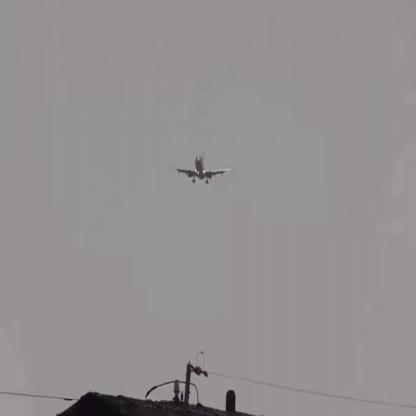CIV_Plane: (174, 152, 236, 184)
